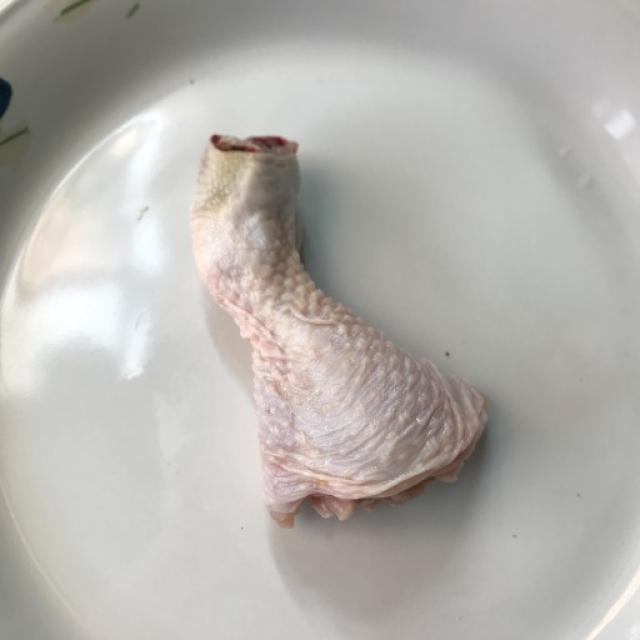chicken: (188, 131, 488, 529)
